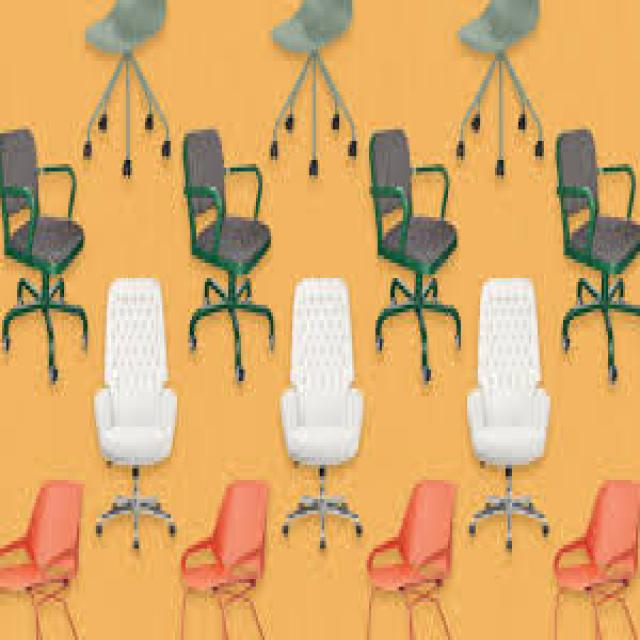chair: (425, 237, 575, 544), (61, 274, 192, 577), (261, 229, 377, 561), (349, 120, 478, 414), (162, 108, 288, 396), (328, 404, 469, 640), (424, 0, 563, 196), (252, 1, 386, 200), (0, 111, 90, 391), (155, 445, 283, 640), (1, 419, 104, 640), (70, 0, 181, 194)
